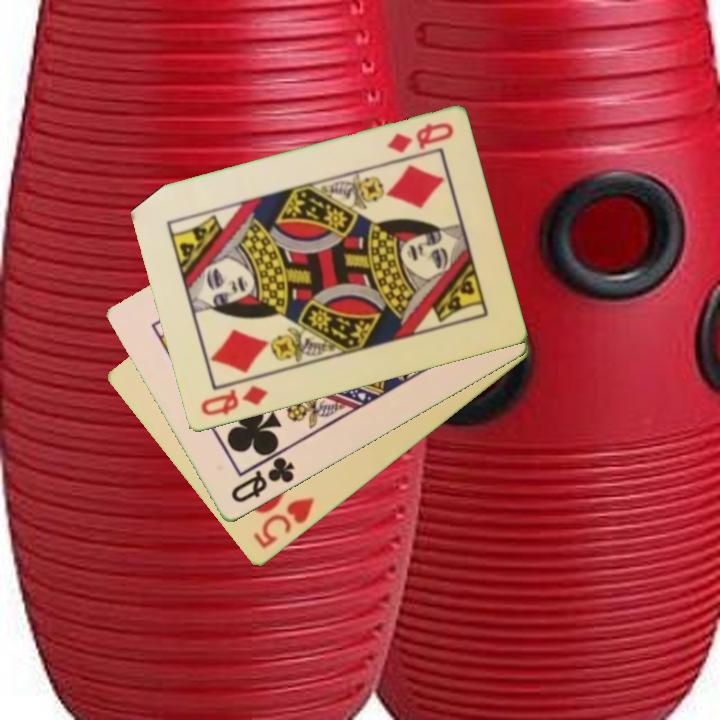5h: (249, 494, 317, 553)
Qc: (227, 447, 298, 507)
Qd: (197, 382, 271, 420), (383, 119, 456, 157)
